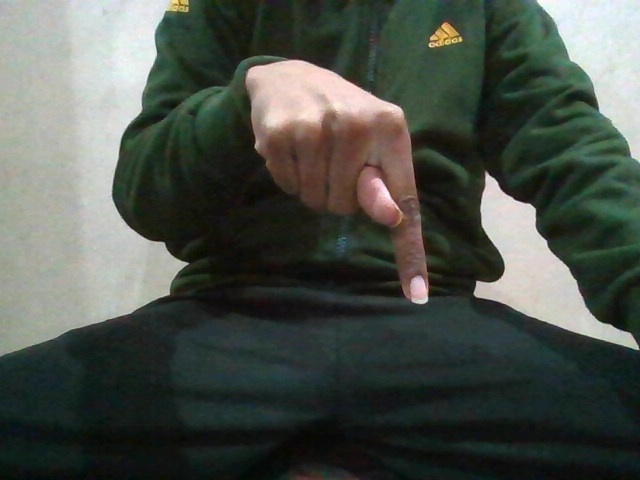Z: (247, 91, 444, 302)
